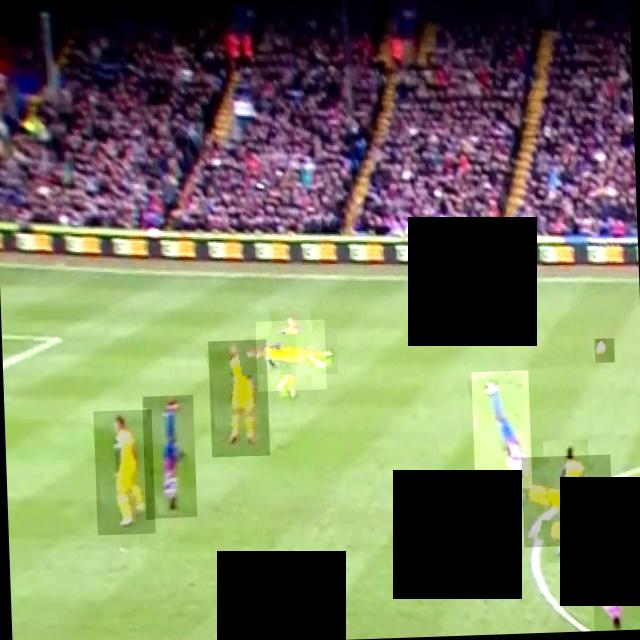ball: (592, 336, 613, 362)
soccer-player: (520, 453, 612, 546), (92, 408, 154, 534), (470, 369, 531, 489), (206, 338, 268, 456), (141, 394, 195, 518), (254, 318, 325, 390), (442, 272, 502, 332), (591, 581, 640, 630)
